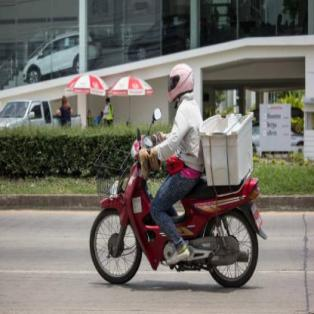Motocicleta: (89, 124, 269, 293)
